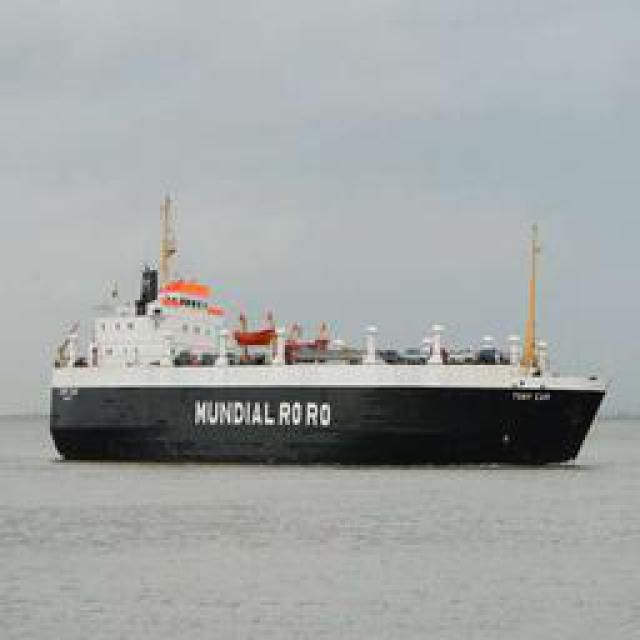Ship: (47, 191, 595, 464)
